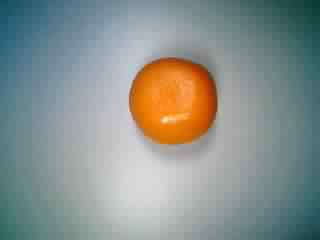orange: (125, 52, 220, 154)
